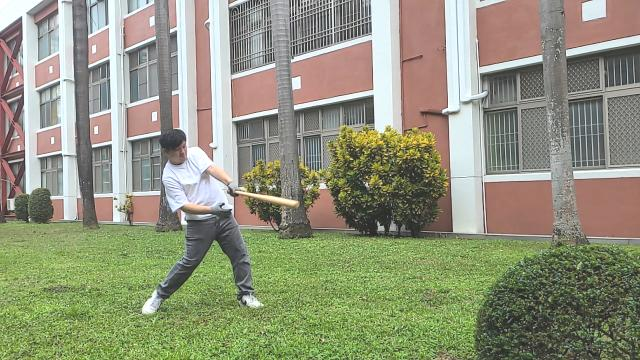baseball bat: (232, 187, 302, 211)
